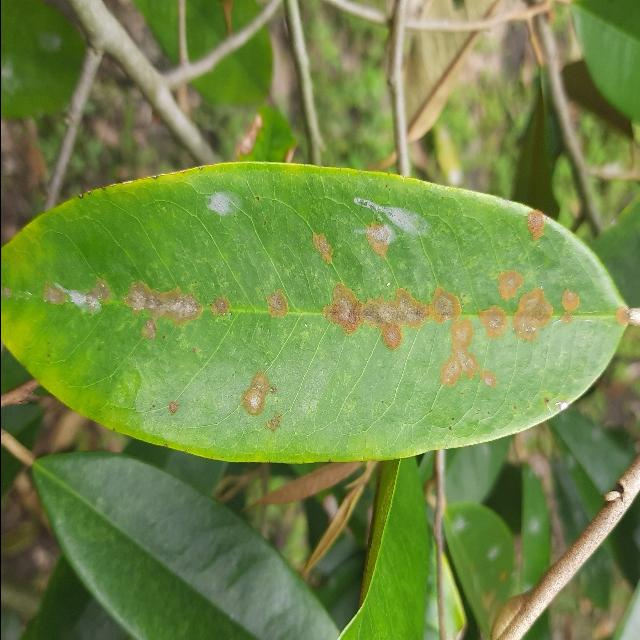Algal Leaf Spot: (0, 155, 623, 477)
